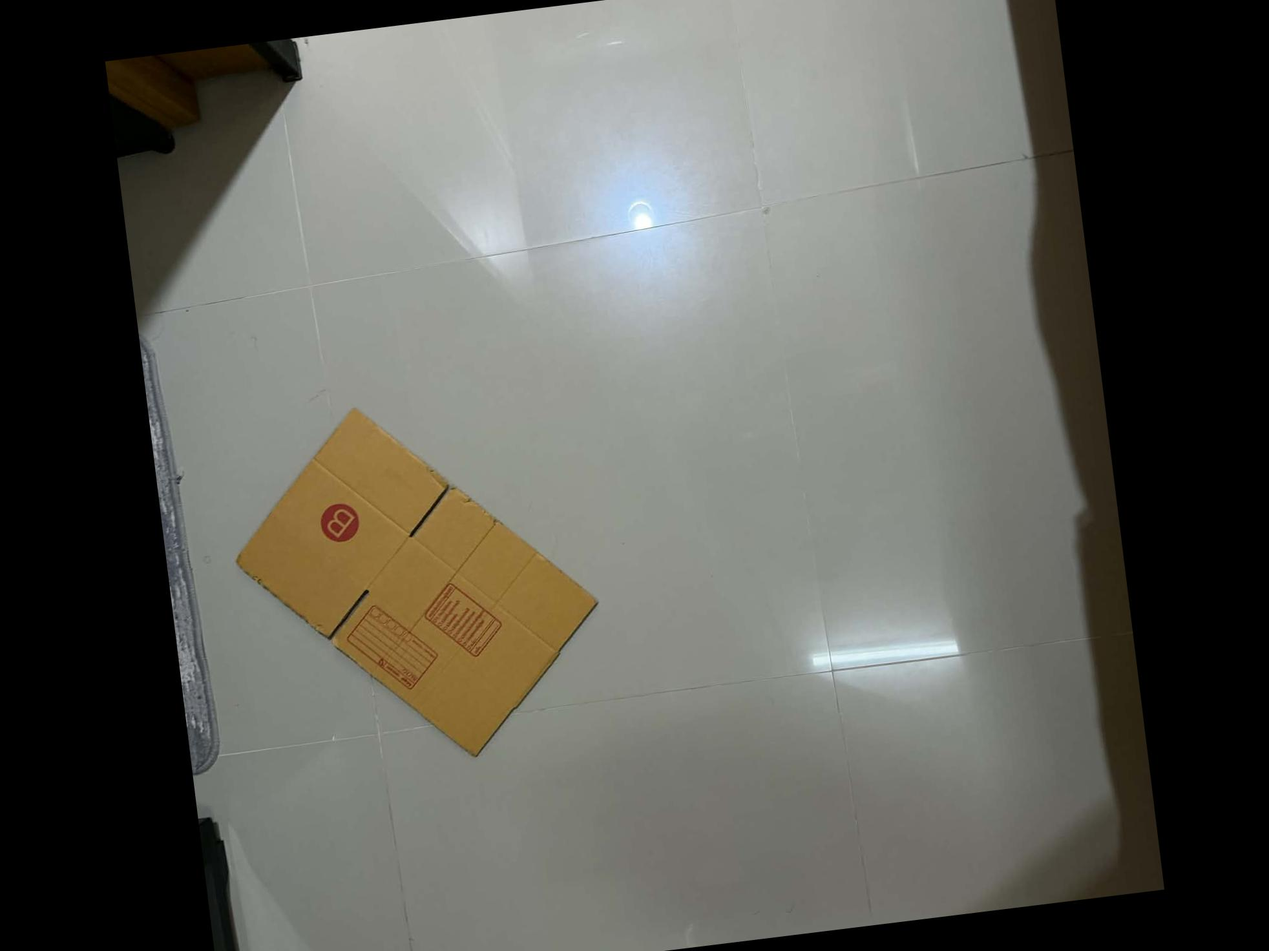box: (339, 601, 434, 695), (420, 573, 513, 665), (319, 500, 362, 551)
class0: (212, 368, 619, 794)
